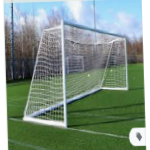goals: (21, 19, 136, 130)
